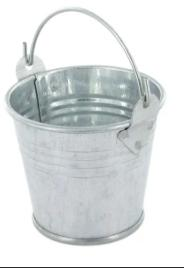SEAU: (0, 4, 184, 265)
